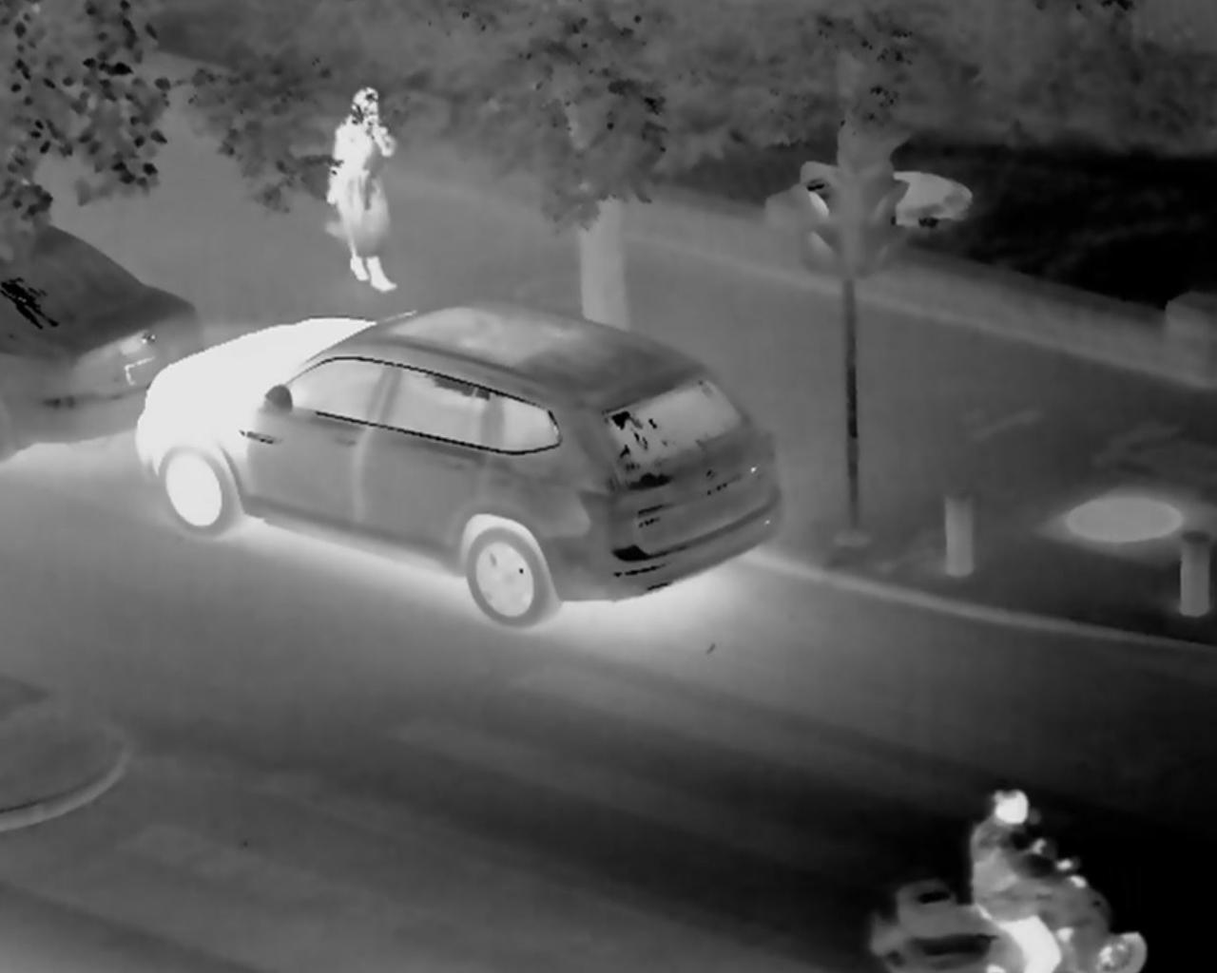person: (968, 790, 1072, 973), (325, 88, 405, 294)
